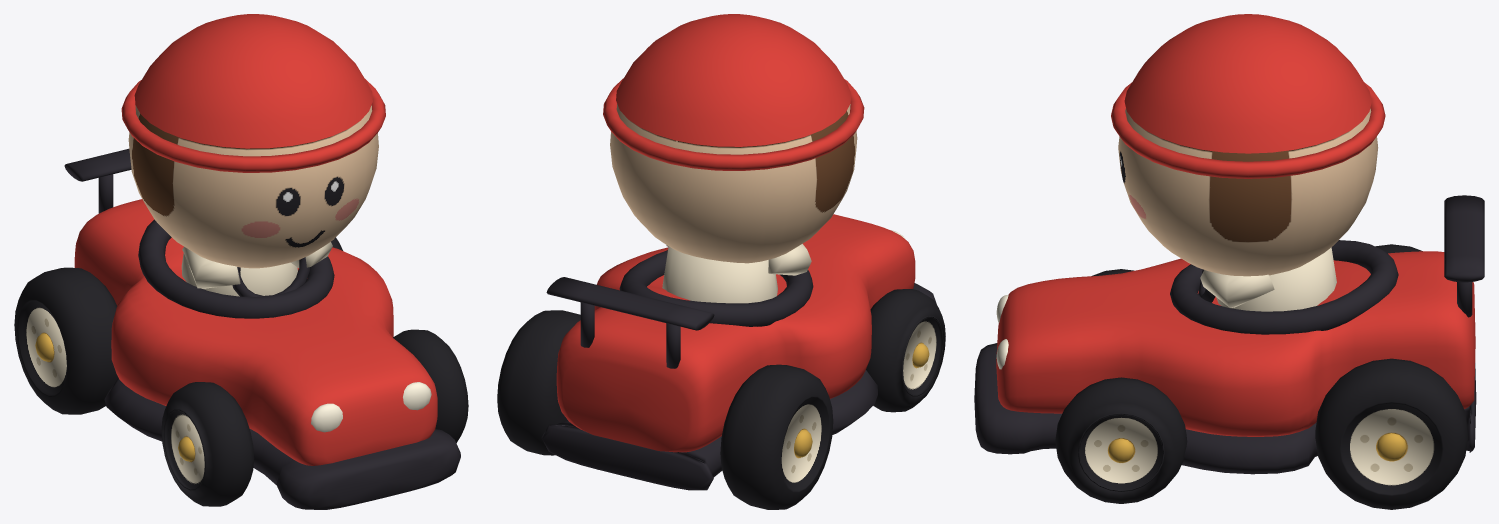
Rendered from microcar.glb.
The picture shows the model from 3 angles, left to right: view 1: azimuth 30°, elevation 25°; view 2: azimuth 150°, elevation 25°; view 3: azimuth 270°, elevation 25°; orthographic projection. The views are drawn at different scales.
Visible parts, largest first — view 1: body, cap, character, trim-plastic, wheel-back-right, wheel-front-right, trim-lip, wheel-front-left, trim-lamps, trim-steer; view 2: body, cap, character, wheel-back-right, trim-plastic, wheel-front-right, wheel-back-left, trim-lip; view 3: body, cap, character, wheel-back-left, trim-plastic, wheel-front-left, trim-lip.
Boxes of the visible parts, x1,y1,x2,y2 form: body: (74, 199, 437, 465); cap: (121, 14, 385, 172); character: (128, 105, 378, 296); trim-plastic: (64, 148, 460, 509); wheel-back-right: (14, 267, 118, 414); wheel-front-right: (161, 382, 254, 506); trim-lip: (138, 219, 334, 318); wheel-front-left: (393, 329, 468, 442); trim-lamps: (311, 382, 431, 432); trim-steer: (232, 257, 309, 296); body: (556, 214, 915, 452); cap: (603, 14, 864, 170); character: (610, 104, 857, 303); wheel-back-right: (720, 364, 833, 509); trim-plastic: (541, 277, 936, 490); wheel-front-right: (866, 289, 945, 412); wheel-back-left: (497, 310, 580, 455); trim-lip: (619, 250, 813, 326); body: (996, 251, 1475, 436); cap: (1111, 14, 1385, 178); character: (1118, 108, 1378, 311); wheel-back-left: (1315, 358, 1467, 509); trim-plastic: (974, 195, 1484, 474); wheel-front-left: (1055, 377, 1187, 503); trim-lip: (1170, 240, 1398, 334).
Size of the model in its own units: 1.01 by 1.34 by 1.47.
9 materials, 2 textured.
